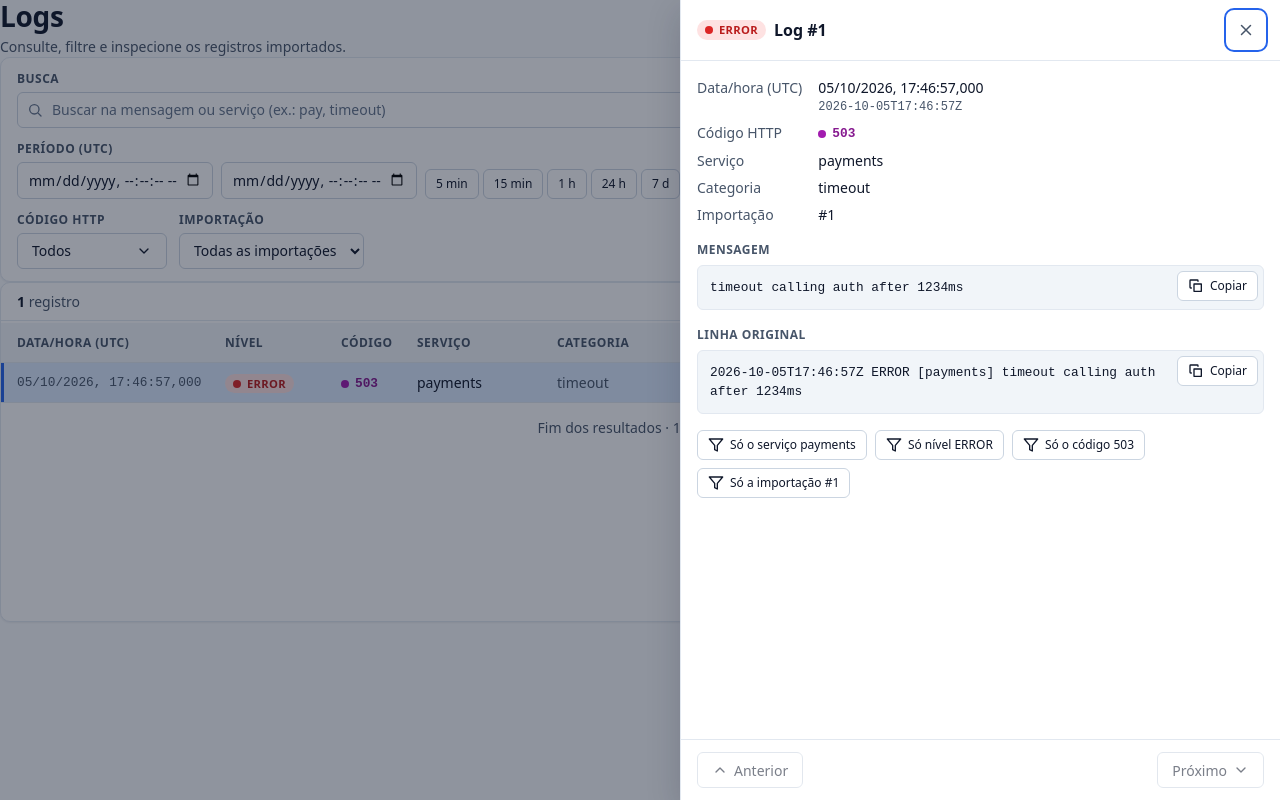
Scenario: LogsPage › closes the drawer and applies the filter in one URL update
Step 1. Click the button "Só nível ERROR" → (939, 445), box x1=875 y1=430 x2=1004 y2=460
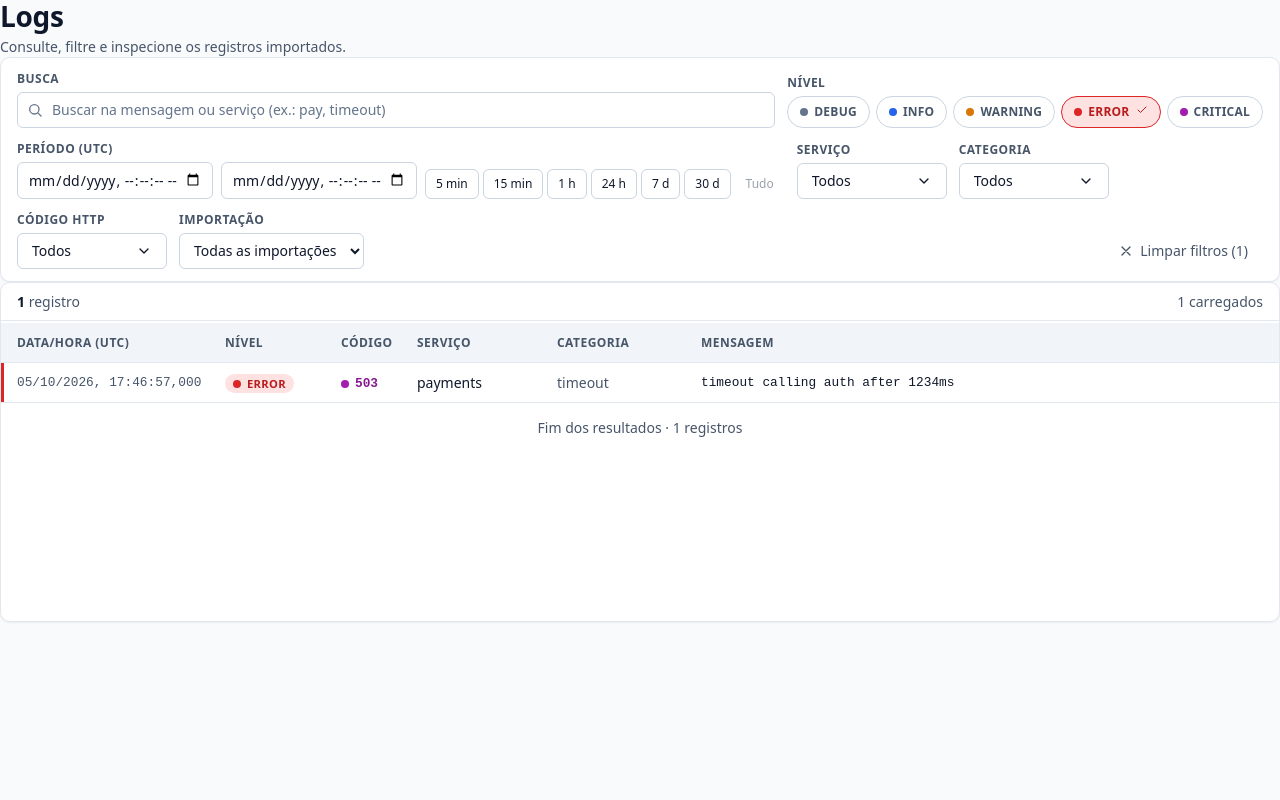
Result: the dialog is gone
